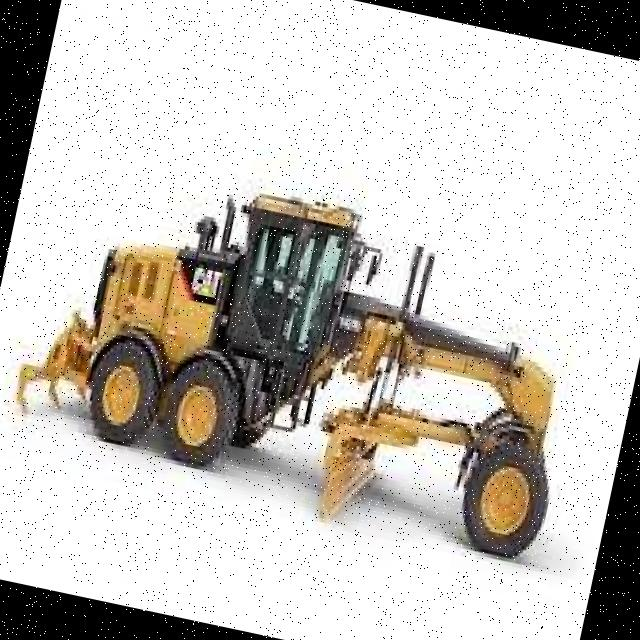Grader: (0, 108, 616, 584)
